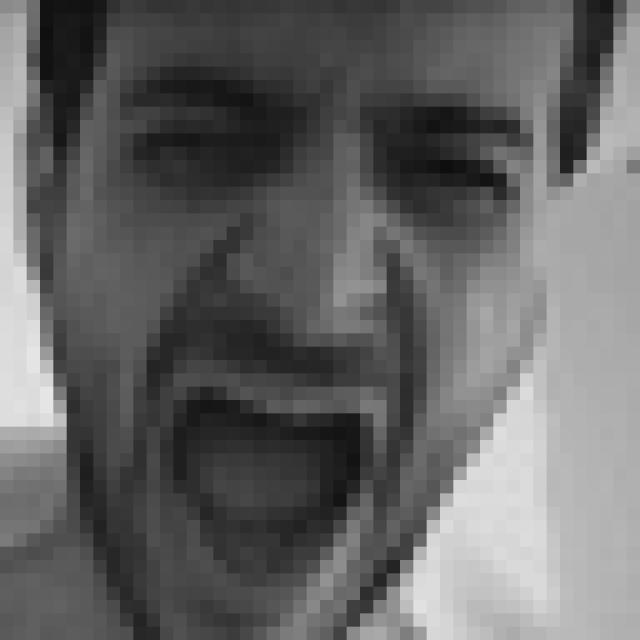angry: (107, 68, 540, 609)
